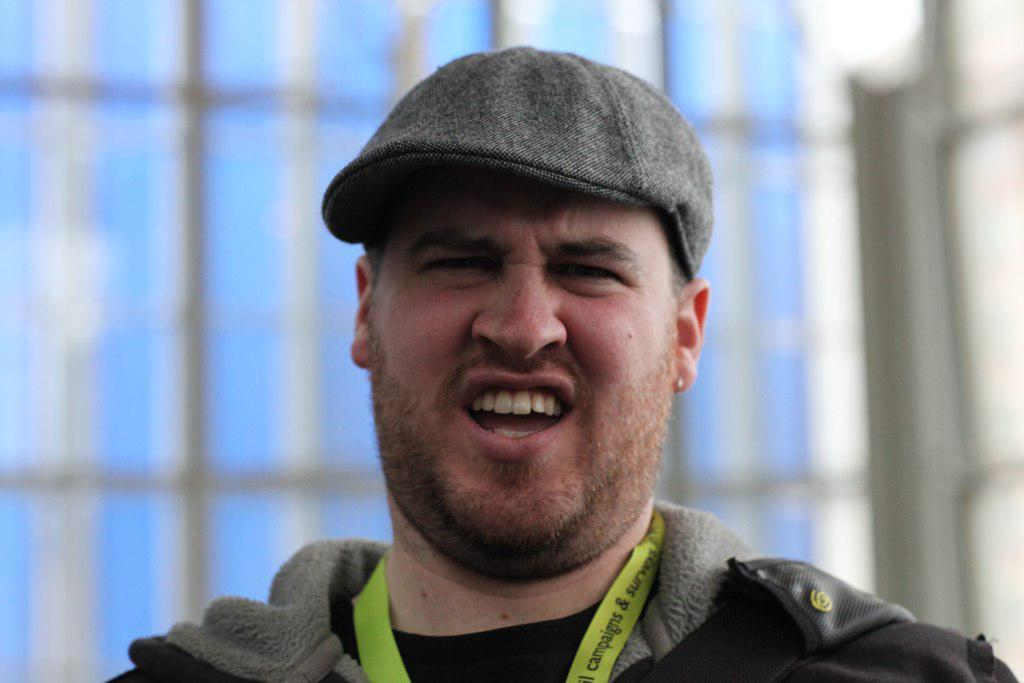Hat: (320, 48, 714, 280)
